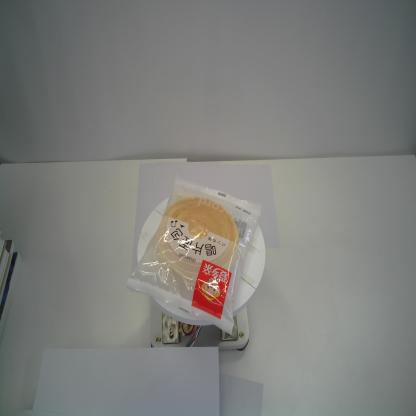Dessert: (124, 173, 264, 340)
